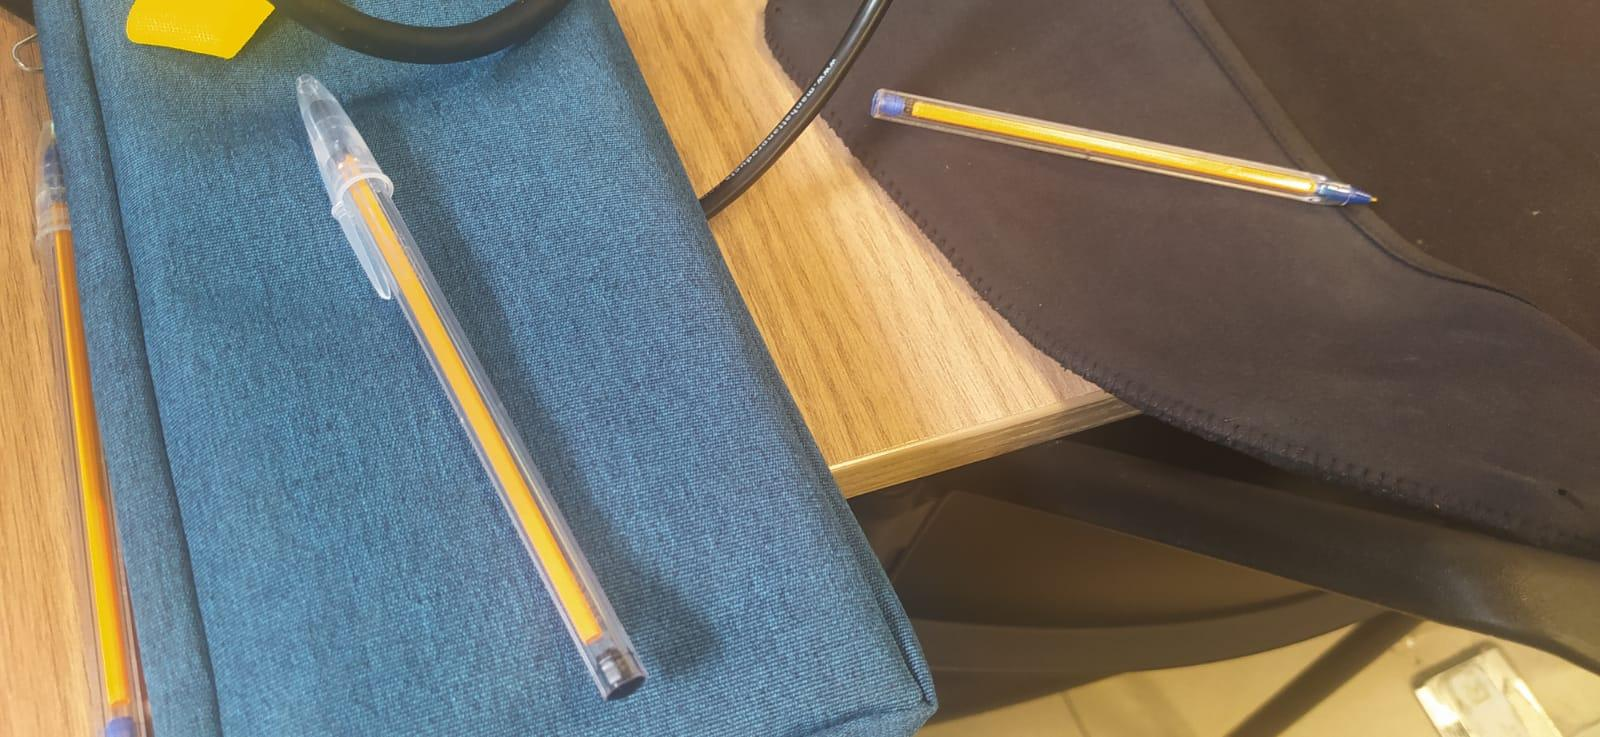pen: (289, 68, 649, 705), (33, 114, 152, 734), (868, 83, 1383, 213)
